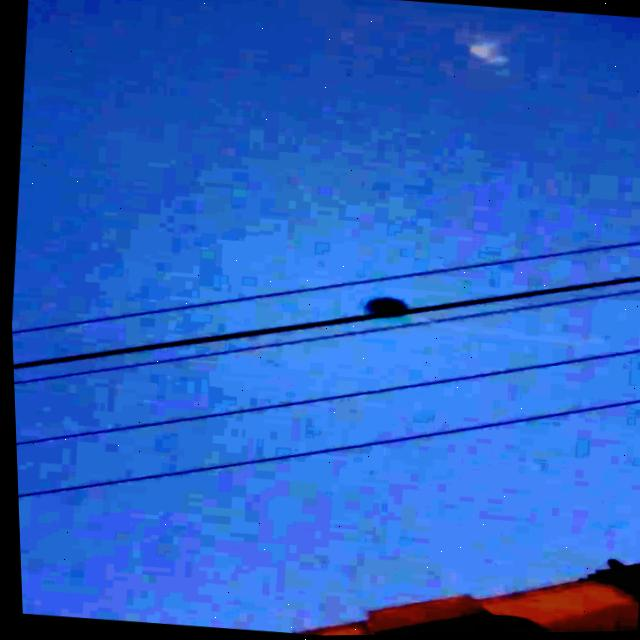obstruction: (359, 299, 405, 316), (374, 315, 407, 322)
wires: (14, 401, 640, 498), (13, 350, 640, 445), (11, 290, 640, 383), (10, 242, 640, 334), (11, 278, 640, 369)
